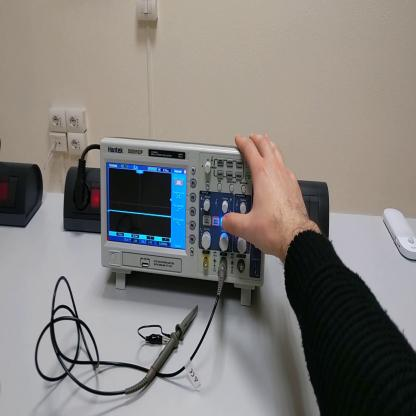hand: (222, 131, 312, 257)
oscilloscope: (101, 138, 266, 308)
oscilloscope probe tip: (126, 309, 199, 396)
socket: (2, 161, 45, 232), (62, 165, 101, 233)
